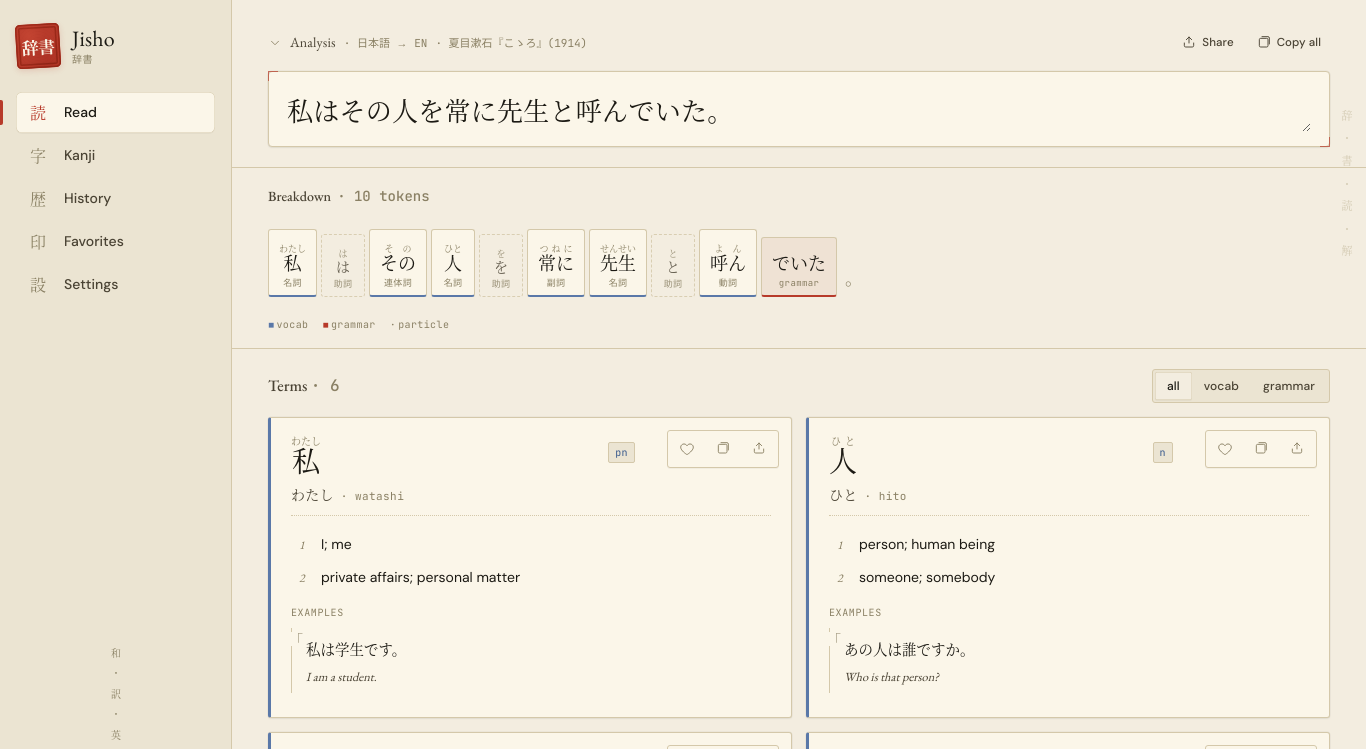
Test: History screen › deleting a row removes it without affecting other entries
The image size is (1366, 749).
Click the button "歴 History" at (116, 198), box [16,178,215,219]
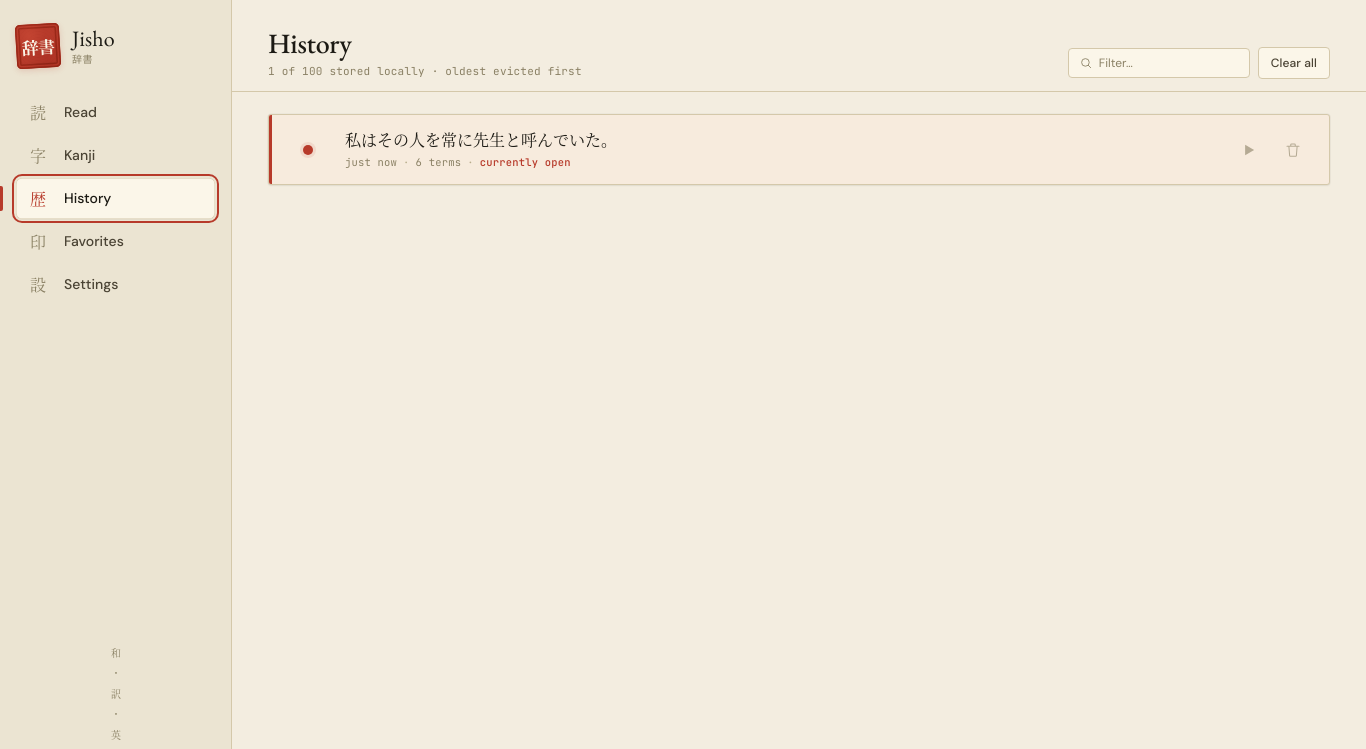
Now the number of list items with class "hrow" is 1, box [269,115,1329,184]
Click the button named "delete" at (1293, 150), box [1273,130,1313,170]
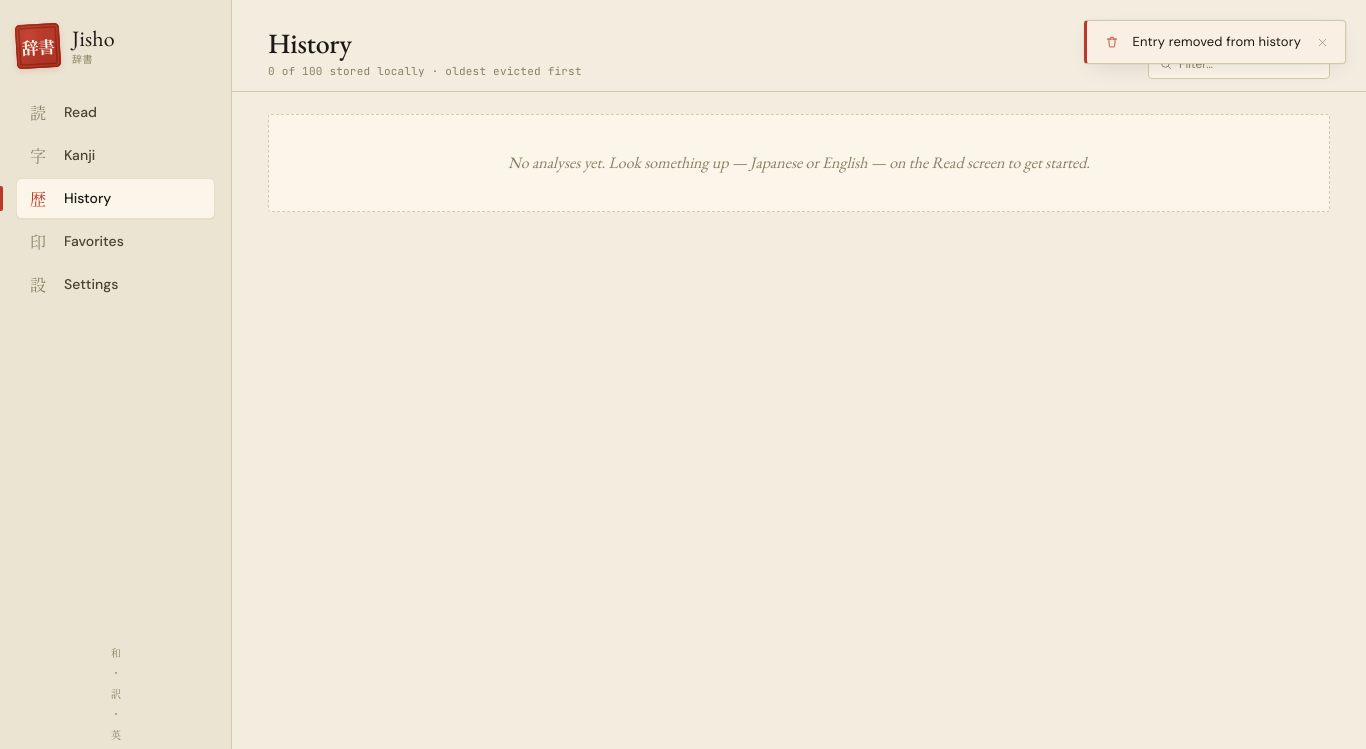
Now no list items with class "hrow" are shown
Now the text "No analyses yet" is shown, box [508,152,1090,173]
